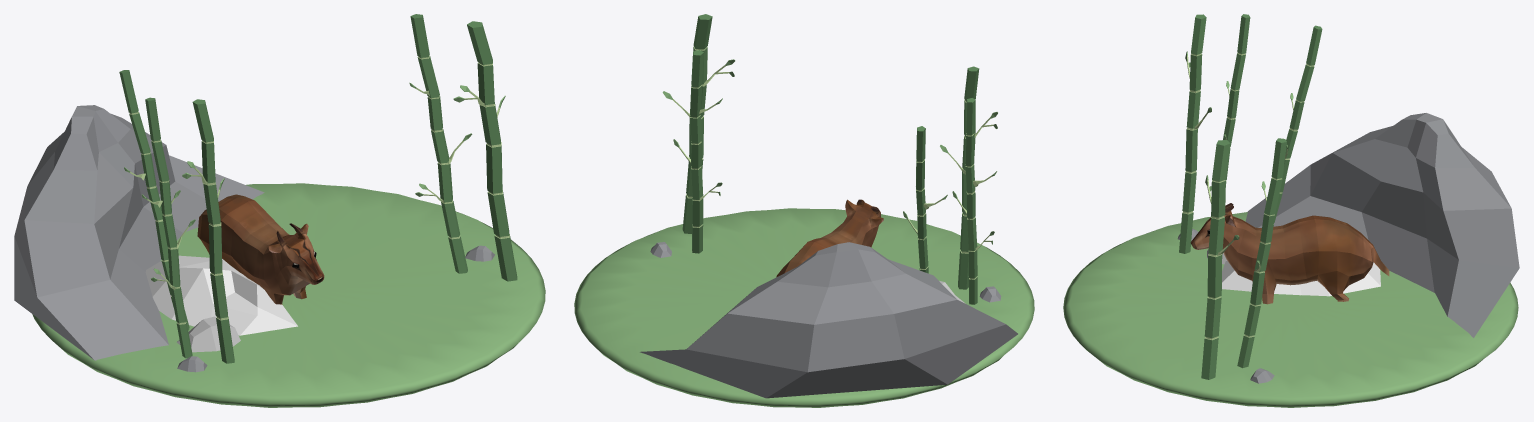
File: meta ar tp spark.fbx
The picture shows the model from 3 angles, left to right: view 1: azimuth 30°, elevation 25°; view 2: azimuth 150°, elevation 25°; view 3: azimuth 270°, elevation 25°; orthographic projection. The views are drawn at different scales.
Visible parts, largest first — view 1: Cylinder, Cube, Object_1, Cube.004, Cylinder.001, Cylinder.008, Cylinder.004, Cylinder.011, Cylinder.015, Cube.001; view 2: Cylinder, Cube, Object_1, Cylinder.004, Cylinder.011, Cylinder.001, Cylinder.008, Cylinder.015; view 3: Cylinder, Cube, Object_1, Cylinder.001, Cylinder.008, Cylinder.004, Cube.004, Cylinder.015, Cylinder.011.
Boxes of the visible parts, box(x1,y1,x2,y2) form: Cylinder: box(32, 183, 545, 407); Cube: box(14, 105, 264, 360); Object_1: box(197, 194, 324, 304); Cube.004: box(145, 255, 297, 335); Cylinder.001: box(467, 21, 517, 281); Cylinder.008: box(192, 99, 234, 363); Cylinder.004: box(410, 14, 467, 273); Cylinder.011: box(145, 97, 192, 358); Cylinder.015: box(119, 70, 189, 330); Cube.001: box(176, 316, 240, 352); Cylinder: box(574, 208, 1034, 407); Cube: box(640, 242, 1017, 398); Object_1: box(776, 199, 883, 277); Cylinder.004: box(690, 50, 703, 253); Cylinder.011: box(965, 98, 977, 304); Cylinder.001: box(682, 14, 712, 233); Cylinder.008: box(958, 66, 979, 289); Cylinder.015: box(916, 126, 928, 273); Cylinder: box(1063, 212, 1518, 407); Cube: box(1245, 113, 1519, 337); Object_1: box(1190, 203, 1389, 304); Cylinder.001: box(1201, 140, 1230, 379); Cylinder.008: box(1179, 14, 1206, 253); Cylinder.004: box(1237, 138, 1286, 368); Cube.004: box(1222, 260, 1380, 296); Cylinder.015: box(1273, 25, 1322, 225); Cylinder.011: box(1211, 14, 1250, 216).
Bounding box in the file's own units: 660 × 417 × 641.
